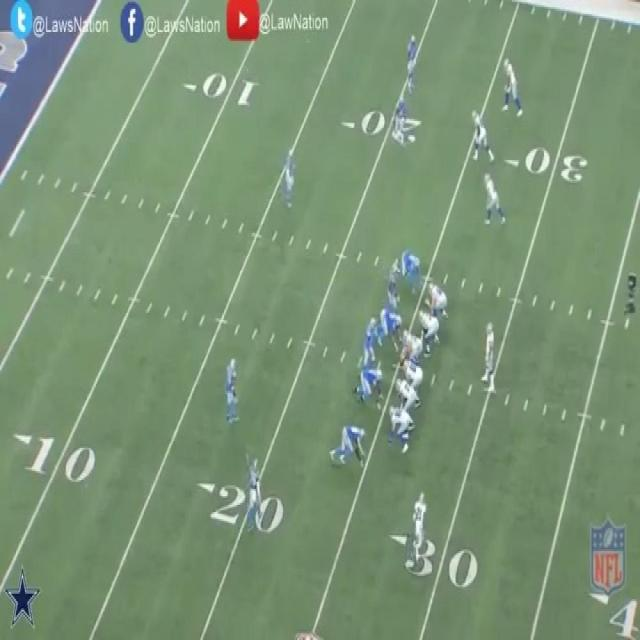center: (404, 332, 420, 348)
db: (247, 455, 261, 528), (226, 359, 240, 425), (406, 34, 420, 89), (282, 151, 294, 206), (393, 98, 406, 140)
lb: (383, 252, 401, 308), (360, 318, 375, 363)
qb: (484, 320, 497, 390)
